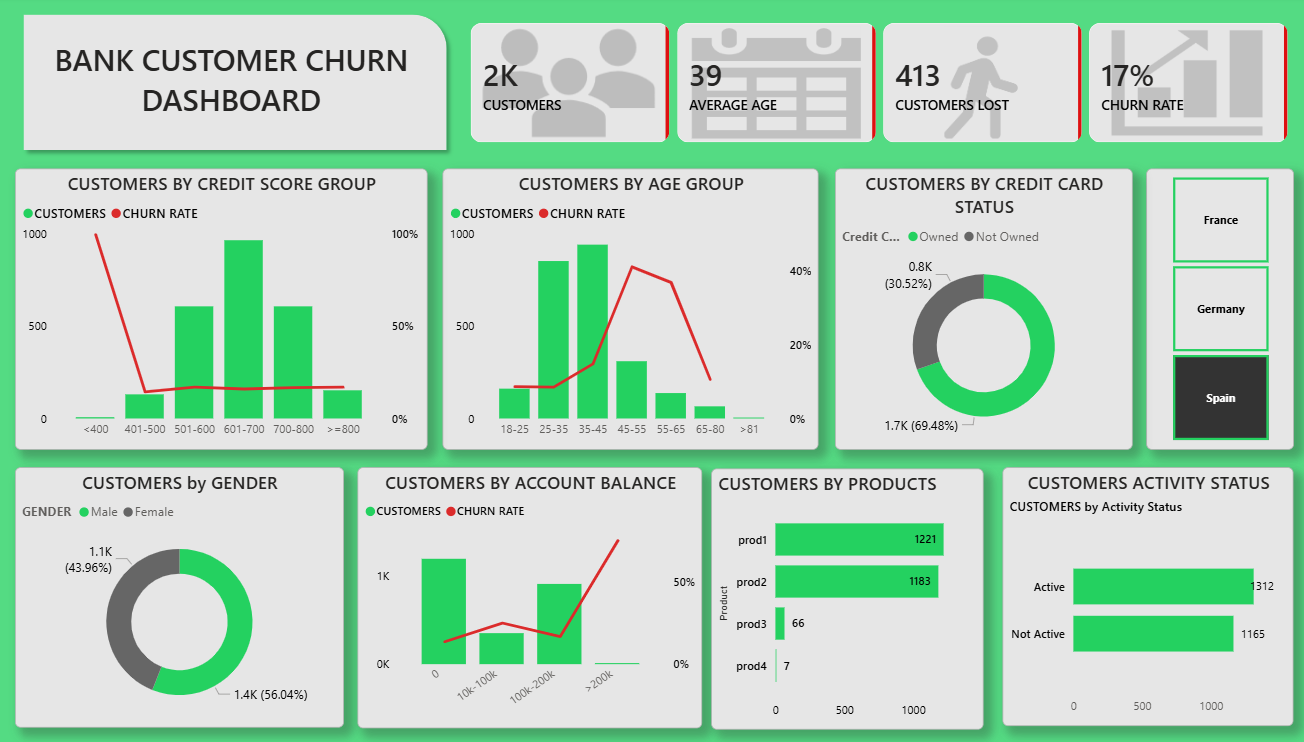

The page's visual inventory and layout, read from the dashboard file:
{"tool":"powerbi","page":{"name":"Page 1","canvas":[1400,800],"ordinal":0},"visuals":[{"type":"cardVisual","fields":{"Data":["Customer Records.CUSTOMERS","Customer Records.AVERAGE AGE","Customer Records.CUSTOMERS LOST","Customer Records.CHURN RATE"]},"box":[487.9,12.1,911.5,162.2],"z":0},{"type":"lineClusteredColumnComboChart","title":"CHURN RATE BY AGE GROUP","fields":{"Y2":["Customer Records.CHURN RATE"],"Y":["Customer Records.CUSTOMERS"],"Category":["Age Groups.Age Group"]},"box":[406.2,185,471.9,301.6],"z":1000},{"type":"donutChart","fields":{"Y":["Customer Records.CUSTOMERS"],"Category":["Customer Records.Gender"]},"box":[16.1,185,374,301.6],"z":2000},{"type":"lineClusteredColumnComboChart","title":"CHURN RATE BY CREDIT SCORE GROUP","fields":{"Y":["Customer Records.CUSTOMERS"],"Y2":["Customer Records.CHURN RATE"],"Category":["Credit score Group.Credit Score"]},"box":[687.7,508,367.3,274.8],"z":3000},{"type":"lineClusteredColumnComboChart","title":"CHURN RATE BY ACCOUNT BALANCE","fields":{"Y2":["Customer Records.CHURN RATE"],"Y":["Customer Records.CUSTOMERS"],"Category":["Account Balance Group.Account Balance"]},"box":[343.2,506.7,332.4,276.1],"z":4000},{"type":"slicer","fields":{"Values":["Customer Records.Geography"]},"box":[1229.2,185,158.2,301.6],"z":5000},{"type":"donutChart","title":"CUSTOMERS BY PRODUCTS","fields":{"Category":["Customer Records.Product"],"Y":["Customer Records.CUSTOMERS"]},"box":[1069.7,508,317.7,274.8],"z":6000},{"type":"barChart","title":"CUSTOMERS ACTIVITY STATUS","fields":{"Category":["Customer Records.Activity Status"],"Y":["Customer Records.CUSTOMERS"]},"box":[16.1,508,316.4,274.8],"z":7000},{"type":"funnel","title":"CUSTOMERS BY CREDIT CARD STATUS","fields":{"Y":["Customer Records.CUSTOMERS"],"Category":["Customer Records.Credit Card Status"]},"box":[895.4,185,319,301.6],"z":8000},{"type":"shape","box":[16.1,10.7,471.9,163.5],"z":9000},{"type":"textbox","box":[49.6,41.6,396.8,111.3],"z":10000}]}

Visuals, with their boxes in screenshot pixels (x1, y1, x2, y2), scaled from the page's 1400x800 canvas onto the 1304x742 screenshot:
cardVisual - Customer Records.CUSTOMERS x Customer Records.AVERAGE AGE: (x1=454, y1=11, x2=1303, y2=162)
"CHURN RATE BY AGE GROUP" lineClusteredColumnComboChart: (x1=378, y1=172, x2=818, y2=451)
donutChart - Customer Records.CUSTOMERS x Customer Records.Gender: (x1=15, y1=172, x2=363, y2=451)
"CHURN RATE BY CREDIT SCORE GROUP" lineClusteredColumnComboChart: (x1=641, y1=471, x2=983, y2=726)
"CHURN RATE BY ACCOUNT BALANCE" lineClusteredColumnComboChart: (x1=320, y1=470, x2=629, y2=726)
slicer - Customer Records.Geography: (x1=1145, y1=172, x2=1292, y2=451)
"CUSTOMERS BY PRODUCTS" donutChart: (x1=996, y1=471, x2=1292, y2=726)
"CUSTOMERS ACTIVITY STATUS" barChart: (x1=15, y1=471, x2=310, y2=726)
"CUSTOMERS BY CREDIT CARD STATUS" funnel: (x1=834, y1=172, x2=1131, y2=451)
shape: (x1=15, y1=10, x2=455, y2=162)
textbox: (x1=46, y1=39, x2=416, y2=142)
